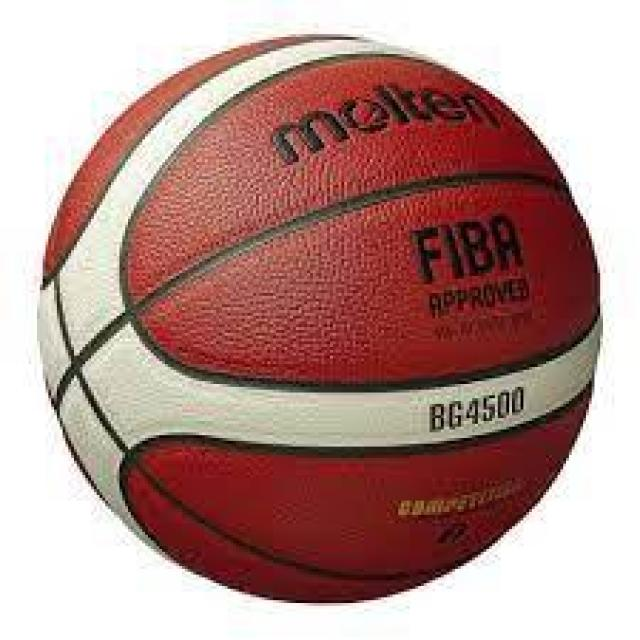ball: (28, 28, 611, 608)
